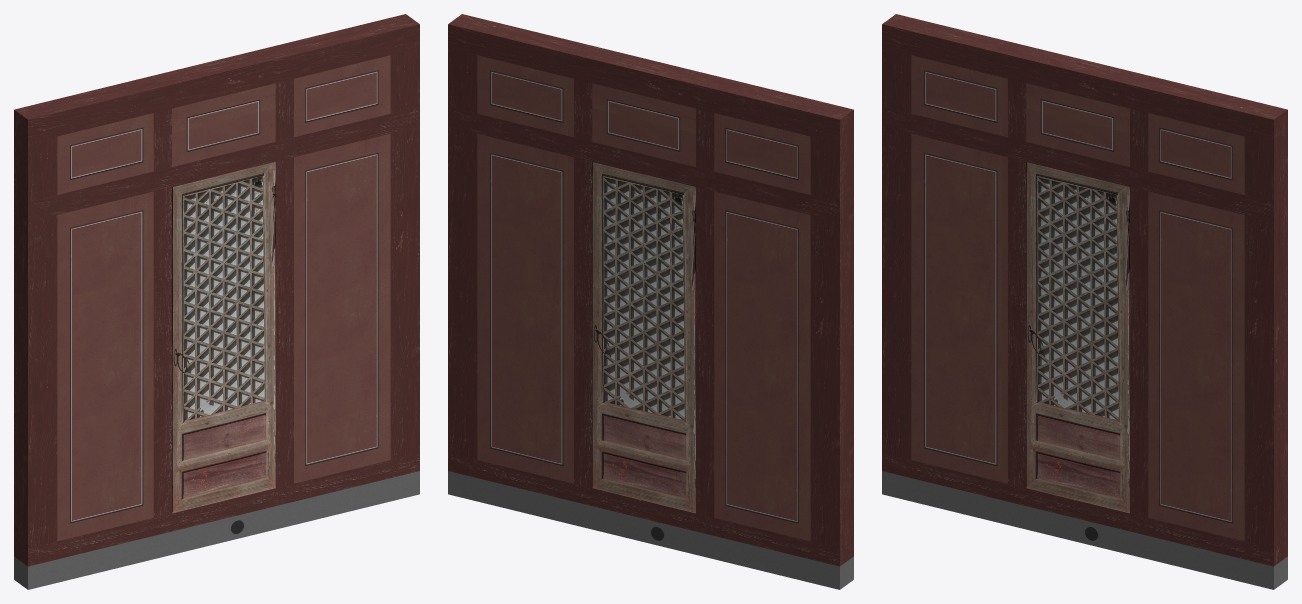
Rendered from SM_Ssang_Dae_Wall_E.fbx.
3 views of the same model, side by side, from view 1: azimuth 30°, elevation 25°; view 2: azimuth 150°, elevation 25°; view 3: azimuth 330°, elevation 25° (orthographic).
Parts seen in each view (by area): view 1: SM_Ssang_Dae_Wall_E; view 2: SM_Ssang_Dae_Wall_E; view 3: SM_Ssang_Dae_Wall_E.
Part boxes in pixels (<box>): SM_Ssang_Dae_Wall_E: <box>14,14,419,589</box>; SM_Ssang_Dae_Wall_E: <box>448,14,853,589</box>; SM_Ssang_Dae_Wall_E: <box>882,14,1287,589</box>.
Size of the model in its own units: 324 by 371 by 20.
